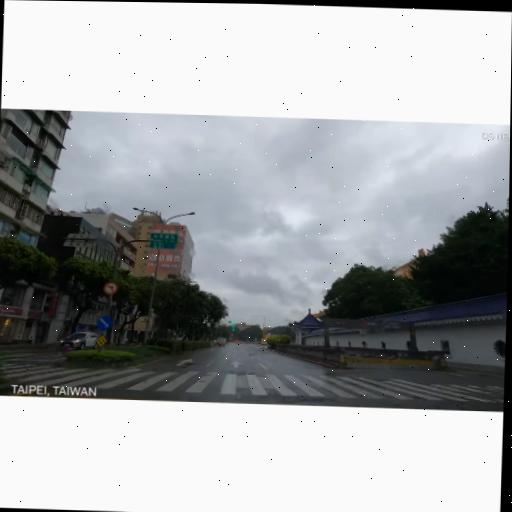Car: (60, 329, 103, 352), (214, 337, 227, 348), (261, 336, 268, 346), (239, 339, 244, 344), (234, 340, 239, 344)
